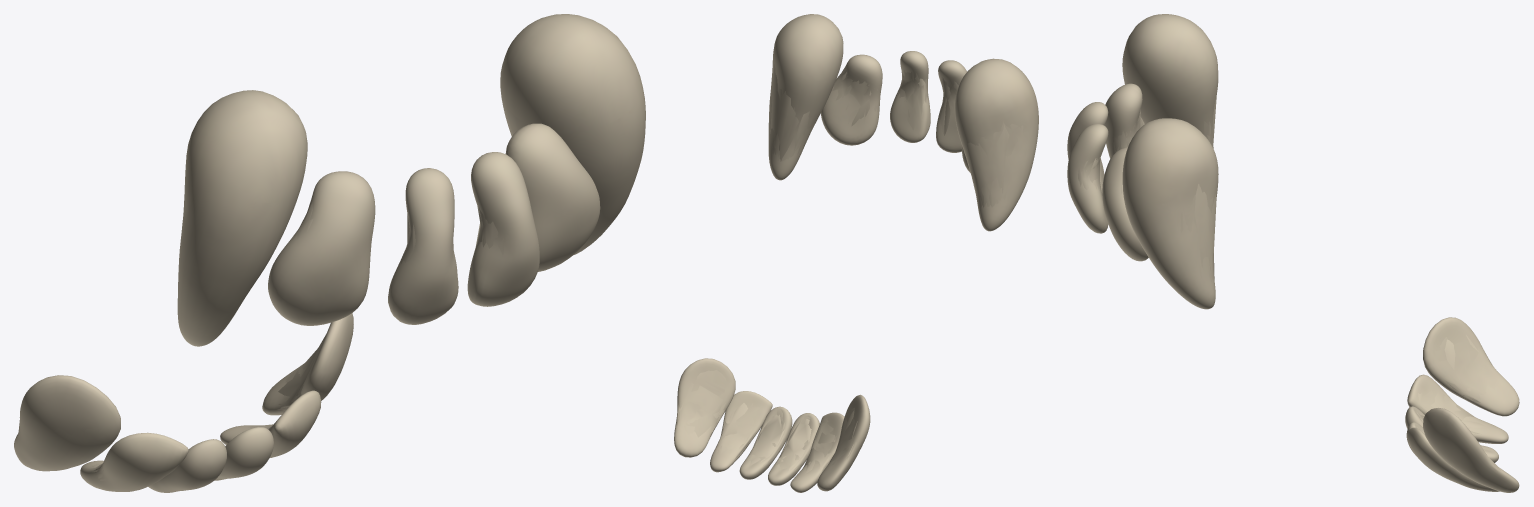
The model's file is Teeth Incisor.fbx.
The picture shows the model from 3 angles, left to right: view 1: azimuth 30°, elevation 25°; view 2: azimuth 150°, elevation 25°; view 3: azimuth 270°, elevation 25°; orthographic projection. The views are drawn at different scales.
Parts seen in each view (by area): view 1: Teeth Incisor high, Teeth Incisor, Teeth Incisor low; view 2: Teeth Incisor high, Teeth Incisor low, Teeth Incisor; view 3: Teeth Incisor high, Teeth Incisor, Teeth Incisor low.
Boxes of the visible parts, left/top/right/bottom form: Teeth Incisor high: left=14, top=14, right=645, bottom=492; Teeth Incisor: left=18, top=194, right=503, bottom=491; Teeth Incisor low: left=92, top=207, right=485, bottom=472; Teeth Incisor high: left=674, top=14, right=1038, bottom=492; Teeth Incisor low: left=676, top=64, right=1009, bottom=473; Teeth Incisor: left=676, top=68, right=1023, bottom=475; Teeth Incisor high: left=1067, top=14, right=1519, bottom=492; Teeth Incisor: left=1078, top=118, right=1501, bottom=481; Teeth Incisor low: left=1086, top=96, right=1500, bottom=470.
Size of the model in its own units: 5.83 by 7.36 by 7.53.
